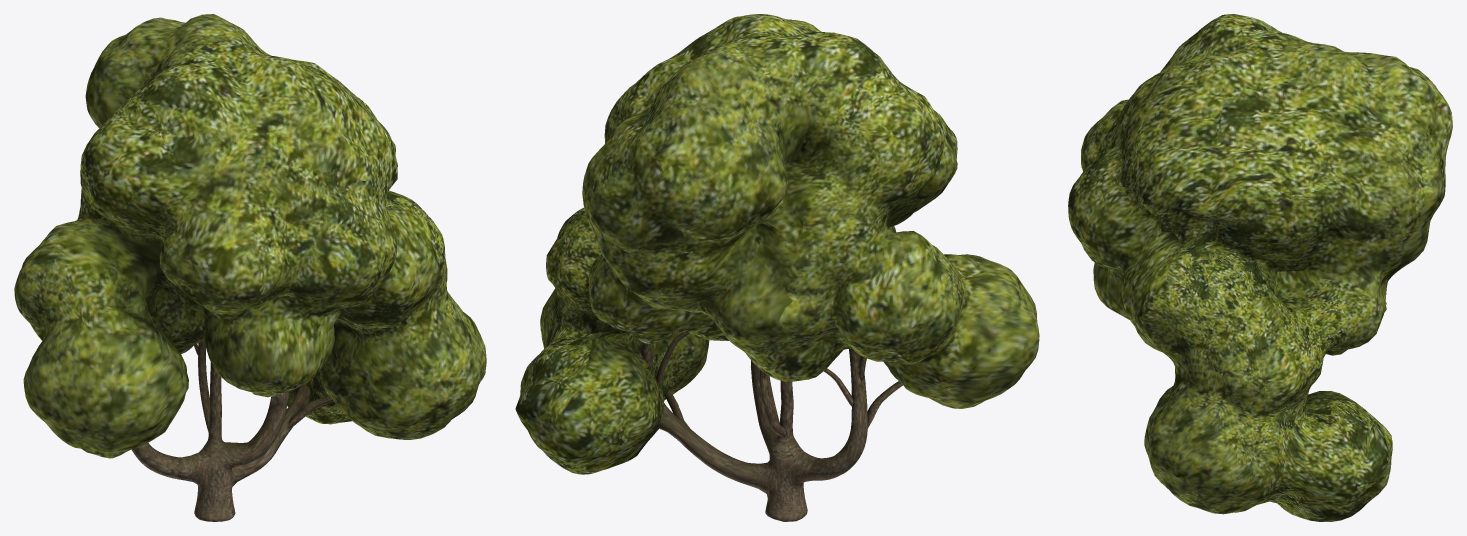
The model's file is Oak_Tree.obj.
3 renders of one model, left to right at view 1: azimuth 30°, elevation 25°; view 2: azimuth 150°, elevation 25°; view 3: azimuth 270°, elevation 25°, orthographic. The views are drawn at different scales.
Parts seen in each view (by area): view 1: 10445_Oak_tree_v1_SG; view 2: 10445_Oak_tree_v1_SG; view 3: 10445_Oak_tree_v1_SG.
Boxes of the visible parts, x1,y1,x2,y2 form: 10445_Oak_tree_v1_SG: [14, 14, 486, 521]; 10445_Oak_tree_v1_SG: [515, 14, 1039, 521]; 10445_Oak_tree_v1_SG: [1068, 14, 1452, 521].
Bounding box in the file's own units: 618 × 596 × 470.
Materials: 1 (1 with a texture image).
